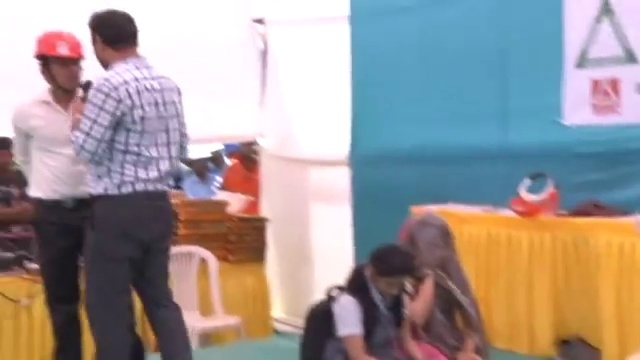helmet: (32, 28, 86, 66), (212, 189, 256, 218), (186, 142, 213, 164)
helmet_off: (403, 217, 460, 292), (80, 8, 147, 71), (364, 245, 424, 306), (235, 144, 264, 174), (0, 134, 17, 176)
helmet_on: (33, 27, 85, 102), (184, 142, 214, 180)
person: (73, 9, 188, 360), (12, 28, 93, 353), (296, 244, 425, 360), (399, 216, 491, 360), (0, 132, 37, 262), (221, 144, 265, 215), (181, 142, 225, 205)
